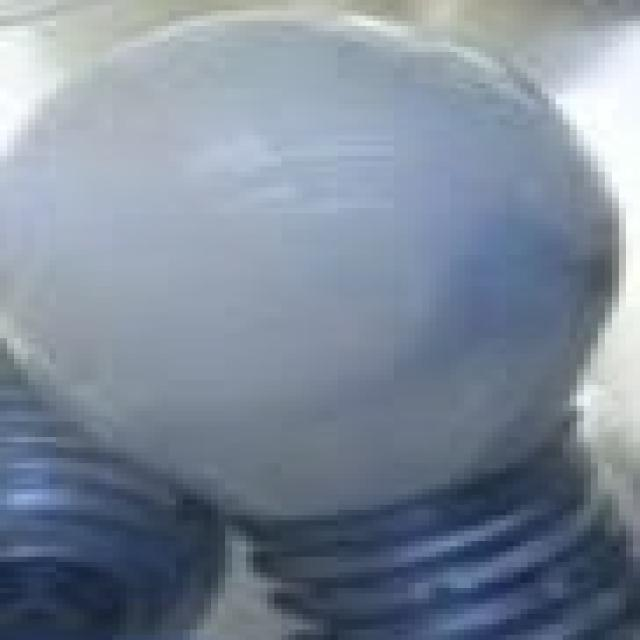bulb: (19, 0, 640, 627)
